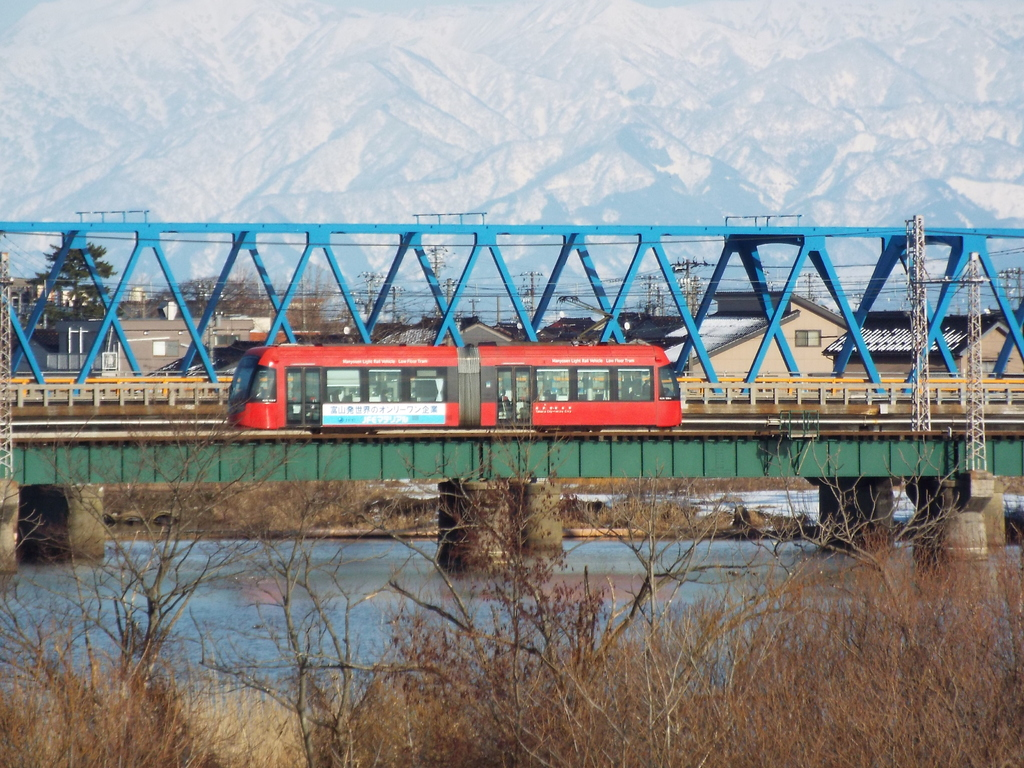train: (227, 341, 683, 430)
